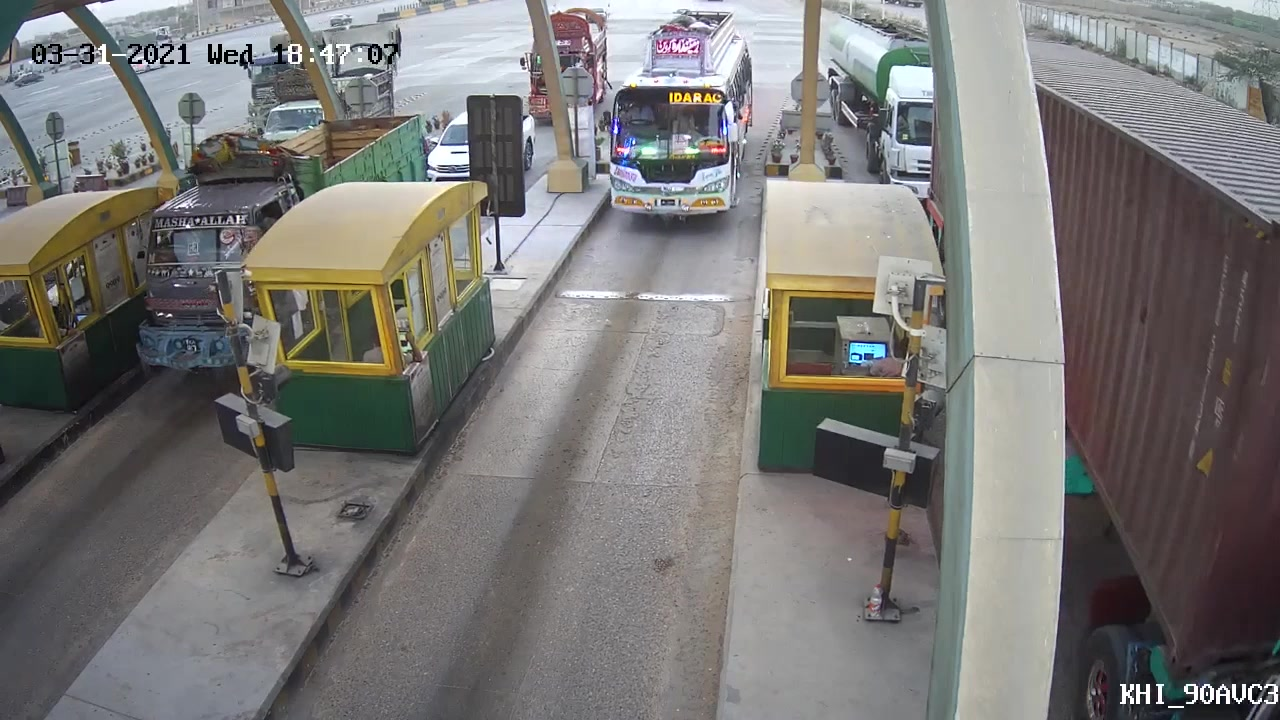F4: (592, 11, 758, 232)
